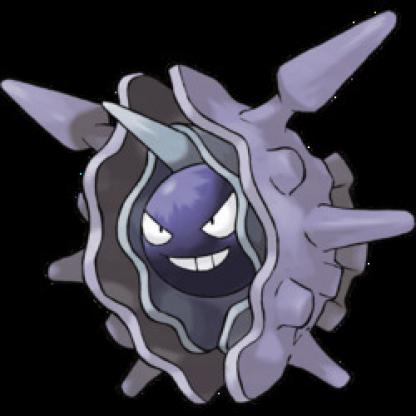Cloyster: (3, 12, 416, 403)
